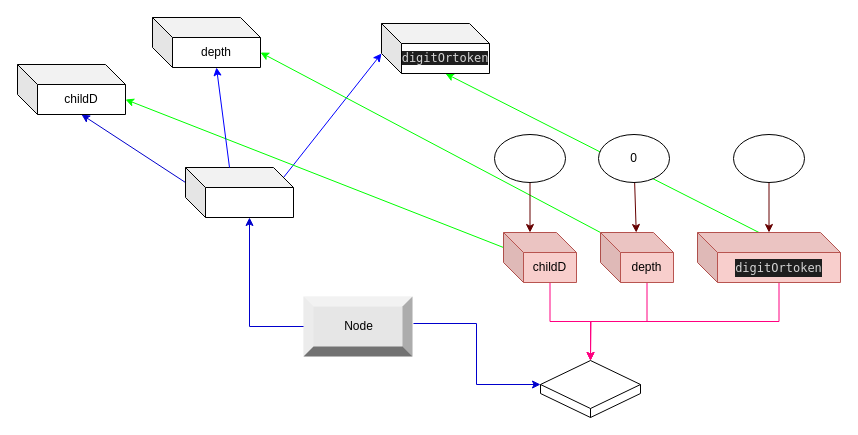
Some shapes in this 858 by 435 pixel diagram are drawn without their labels. Here are the shapes that lost their labels. From the top down, the box of each, then its label:
(494, 134, 566, 182): empty Dict if none
(732, 134, 804, 182): none
(184, 166, 294, 218): self（Node）
(540, 360, 640, 418): __init__
